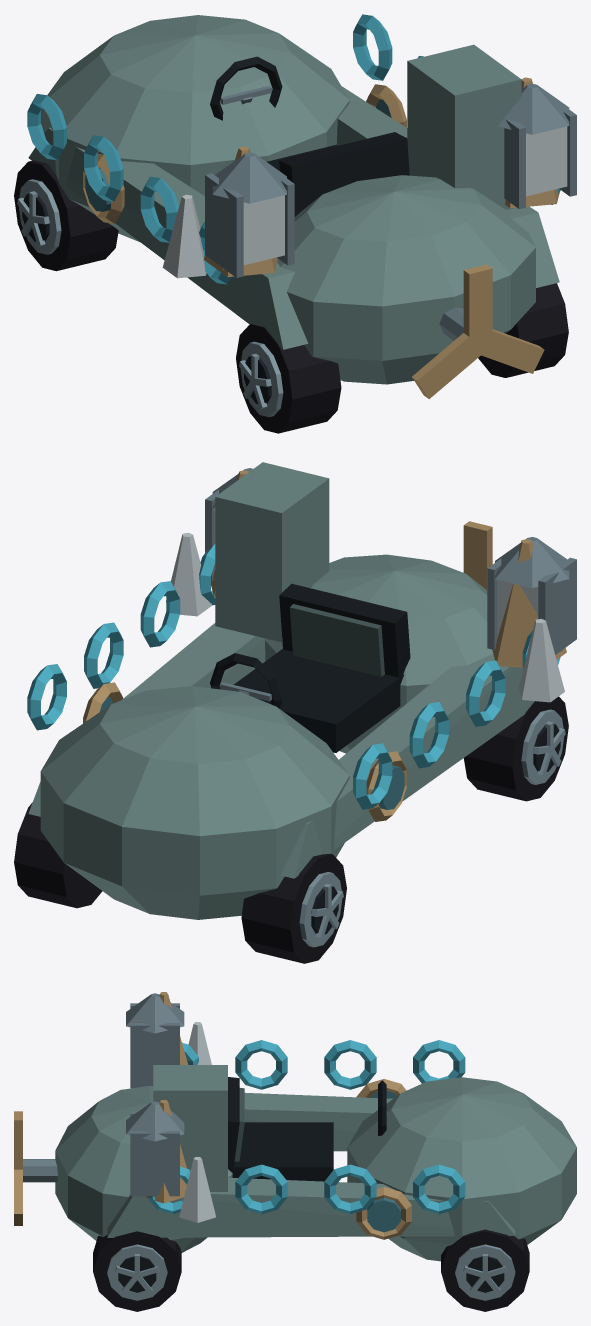
The model's file is kart.glb.
3 renders of one model, top to bottom at view 1: azimuth 30°, elevation 25°; view 2: azimuth 150°, elevation 25°; view 3: azimuth 270°, elevation 25°, orthographic. The views are drawn at different scales.
Visible parts, largest first — view 1: identity-submarine-submarine-rounded-bow-and-stern-propeller, identity-submarine-motif-lanterns, wheel-rear-left, identity-submarine-driver-cockpit, identity-submarine-motif-water, wheel-front-left, identity-submarine-motif-crystals, wheel-rear-right; view 2: identity-submarine-submarine-rounded-bow-and-stern-propeller, identity-submarine-driver-cockpit, identity-submarine-motif-water, wheel-front-left, identity-submarine-motif-lanterns, identity-submarine-motif-crystals, wheel-rear-left, wheel-front-right; view 3: identity-submarine-submarine-rounded-bow-and-stern-propeller, identity-submarine-motif-water, identity-submarine-motif-lanterns, identity-submarine-driver-cockpit, wheel-rear-right, wheel-front-right, identity-submarine-motif-crystals.
Part boxes in pixels (box(x1,y1,x2,y2)): identity-submarine-submarine-rounded-bow-and-stern-propeller: box(28, 15, 559, 398); identity-submarine-motif-lanterns: box(205, 83, 576, 277); wheel-rear-left: box(236, 324, 341, 433); identity-submarine-driver-cockpit: box(210, 56, 409, 216); identity-submarine-motif-water: box(27, 14, 560, 284); wheel-front-left: box(14, 160, 118, 271); identity-submarine-motif-crystals: box(162, 77, 559, 278); wheel-rear-right: box(478, 283, 568, 377); identity-submarine-submarine-rounded-bow-and-stern-propeller: box(28, 462, 534, 919); identity-submarine-driver-cockpit: box(210, 583, 410, 752); identity-submarine-motif-water: box(27, 543, 562, 809); wheel-front-left: box(241, 853, 346, 963); identity-submarine-motif-lanterns: box(205, 468, 576, 654); identity-submarine-motif-crystals: box(166, 470, 566, 702); wheel-rear-left: box(463, 696, 568, 801); wheel-front-right: box(14, 802, 102, 908); identity-submarine-submarine-rounded-bow-and-stern-propeller: box(14, 1065, 576, 1261); identity-submarine-motif-water: box(146, 1040, 465, 1214); identity-submarine-motif-lanterns: box(126, 993, 184, 1196); identity-submarine-driver-cockpit: box(228, 1077, 387, 1181); wheel-rear-right: box(93, 1231, 181, 1311); wheel-front-right: box(441, 1229, 529, 1311); identity-submarine-motif-crystals: box(141, 992, 215, 1222).
Size of the model in its own units: 2 by 1.36 by 3.17.
